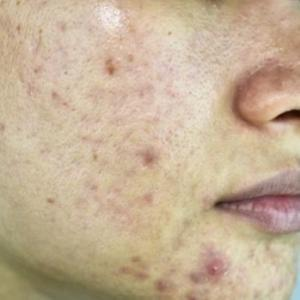Oily-Skin: (58, 0, 172, 43)
